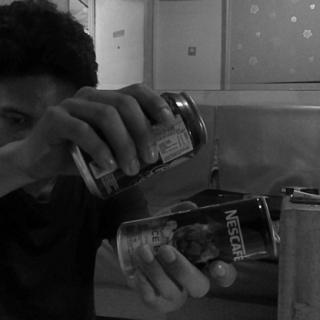alumunium_can: (119, 192, 283, 287), (73, 90, 208, 194)
